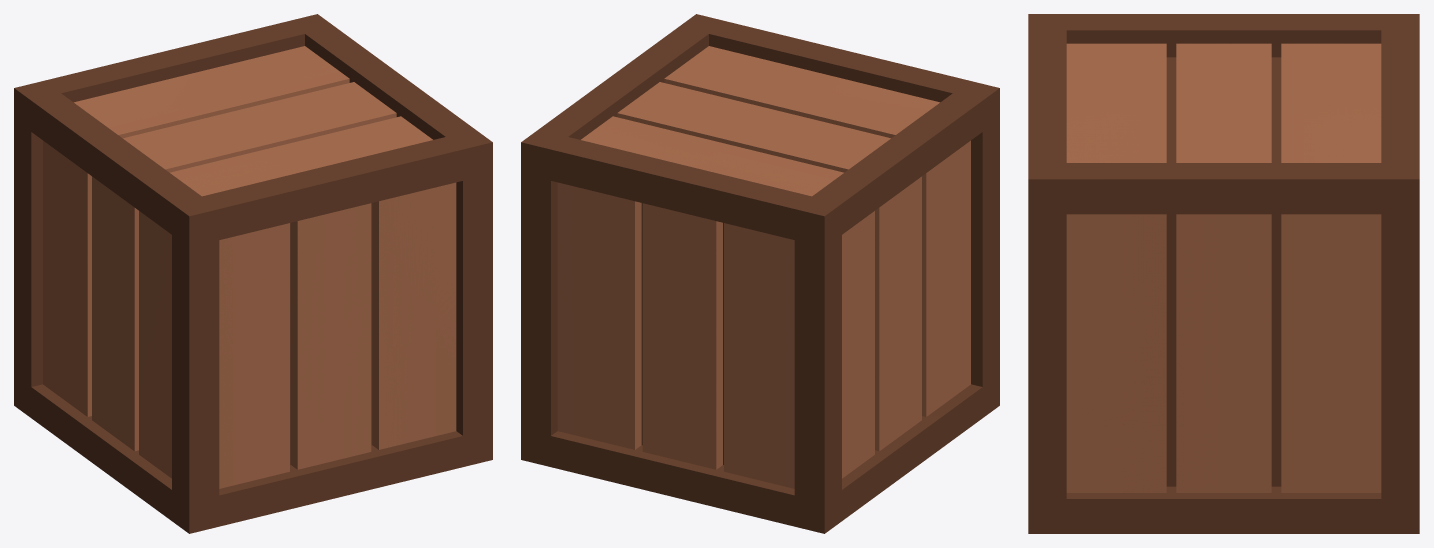
Rendered from Crate.fbx.
The picture shows the model from 3 angles, left to right: view 1: azimuth 30°, elevation 25°; view 2: azimuth 150°, elevation 25°; view 3: azimuth 270°, elevation 25°; orthographic projection. The views are drawn at different scales.
Visible parts, largest first — view 1: Planks, Cube.001; view 2: Planks, Cube.001; view 3: Planks, Cube.001.
Boxes of the visible parts, x1,y1,x2,y2 form: Planks: (43, 46, 456, 488); Cube.001: (14, 14, 492, 533); Planks: (557, 46, 970, 488); Cube.001: (521, 14, 999, 533); Planks: (1066, 43, 1381, 492); Cube.001: (1028, 14, 1419, 533).
Size of the model in its own units: 200 by 200 by 200.
